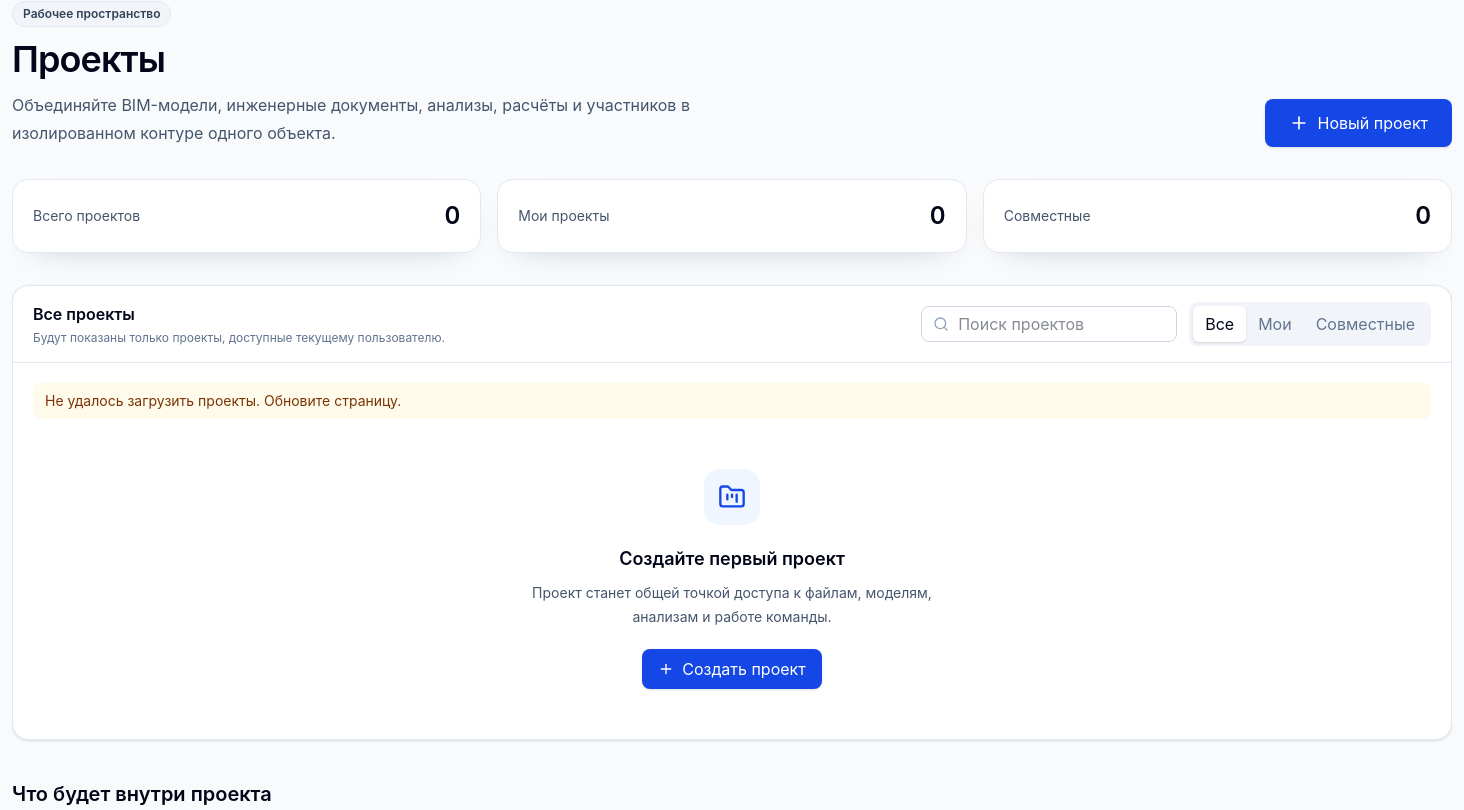
Test: ProjectsWorkspace › сбрасывает поиск и фильтр
In the search field labelled "Поиск проектов": (1049, 324) [921,306,1177,342], type "Школа"
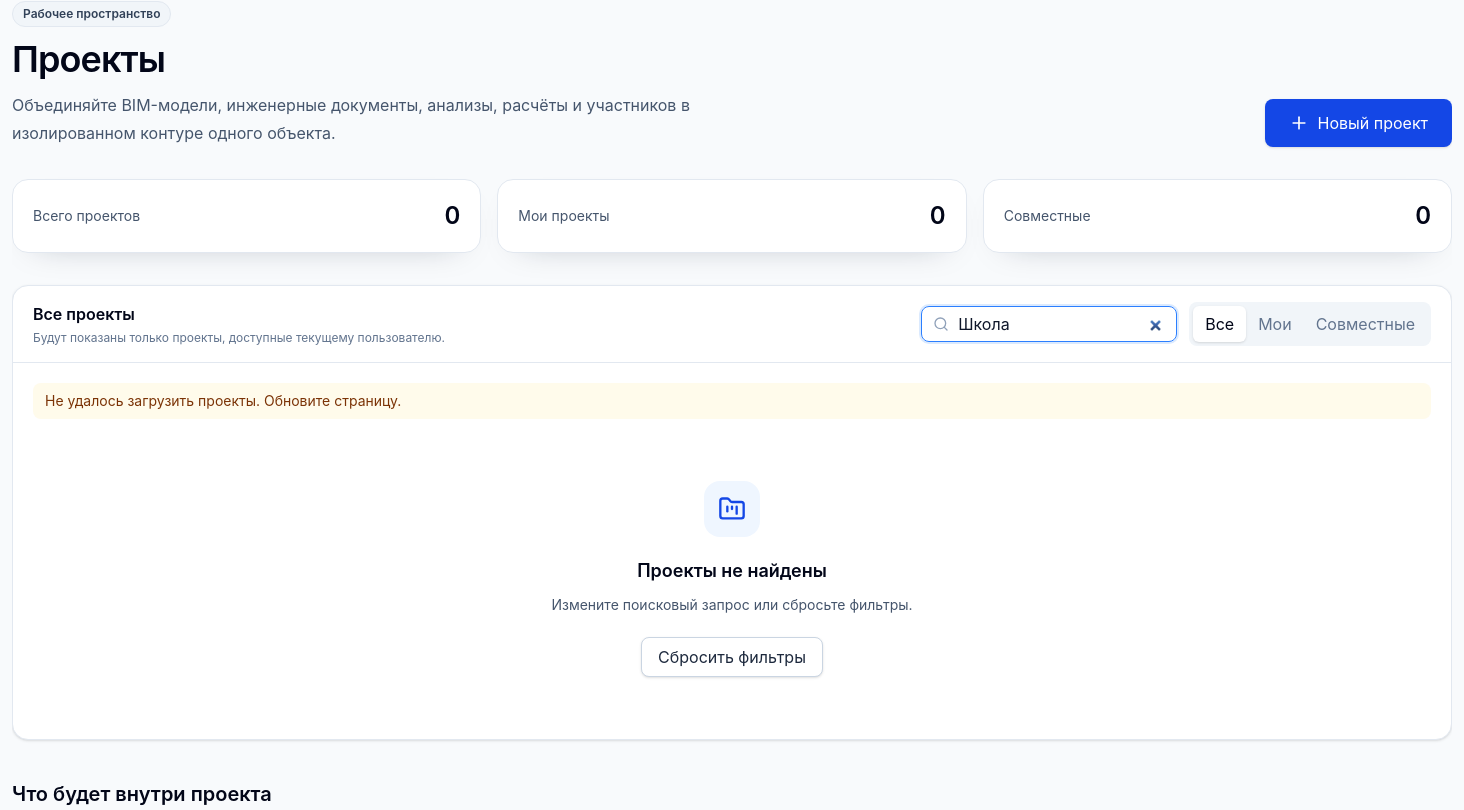
Click the button "Совместные": (1365, 324) [1304,306,1427,342]
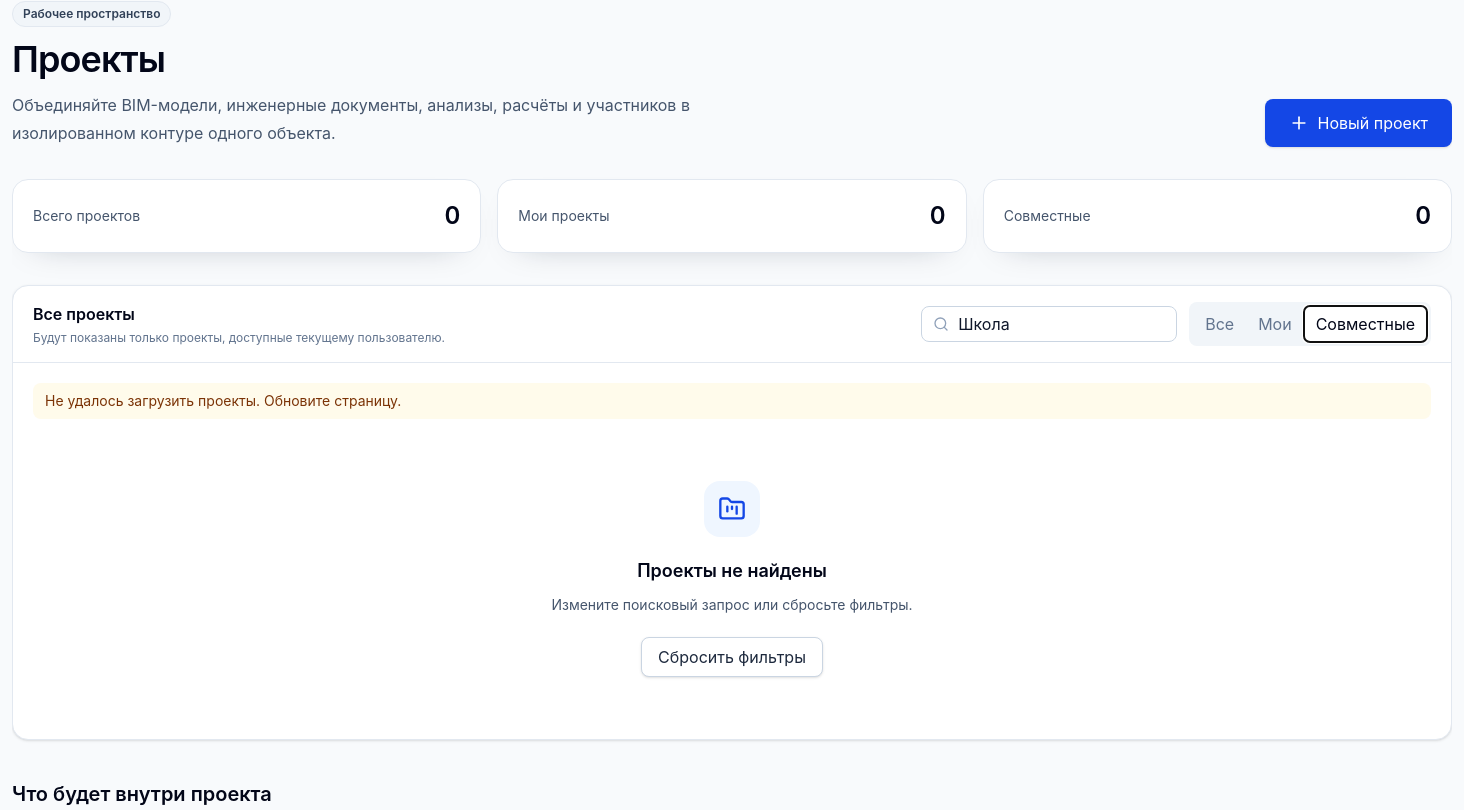
Expected: the heading "Проекты не найдены" is shown, [637,560,827,581]
Click the button "Сбросить фильтры": (732, 657) [641,637,823,677]
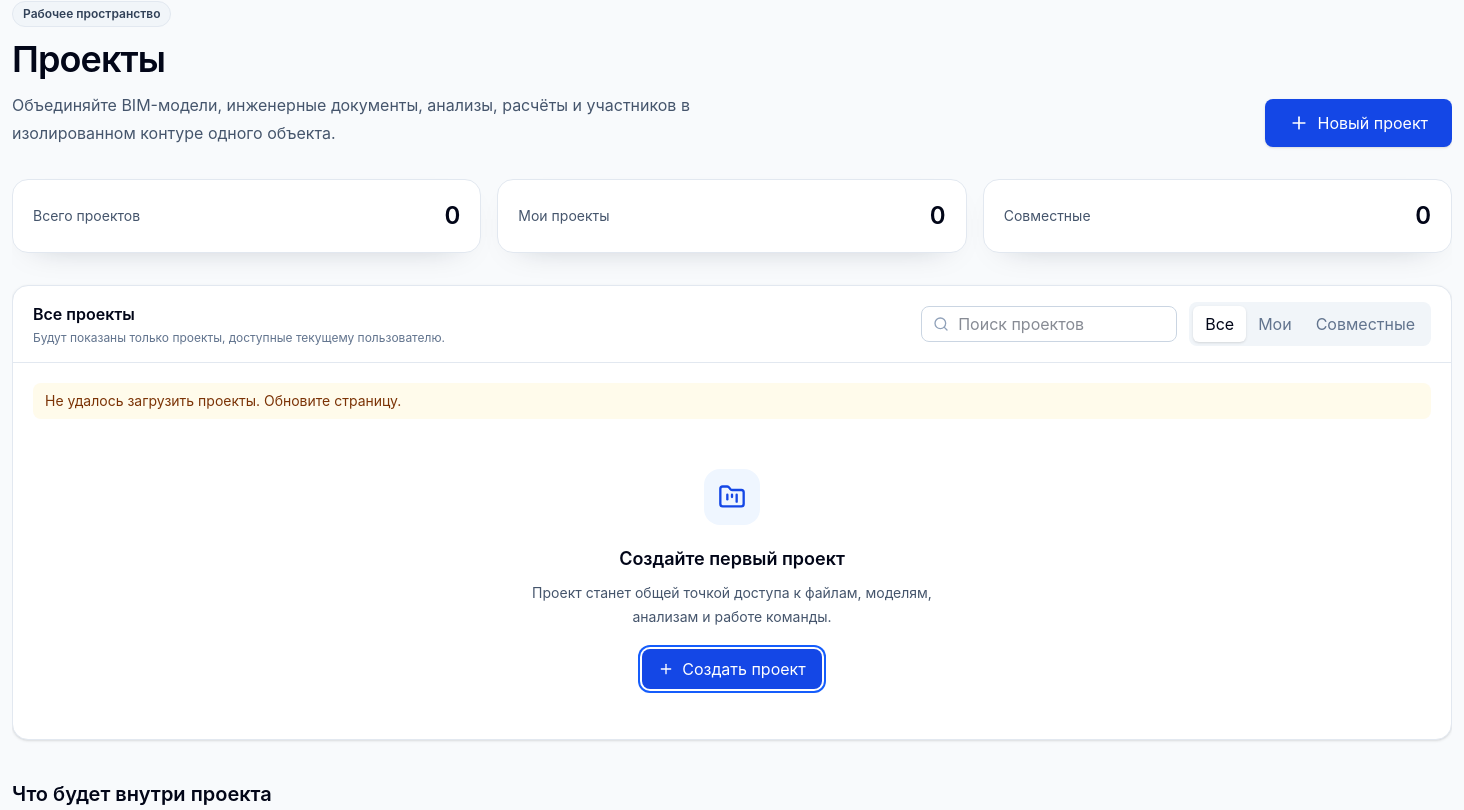
Expected: the search field labelled "Поиск проектов" is empty, [921,306,1177,342]
Expected: the heading "Создайте первый проект" is shown, [619,548,845,569]
